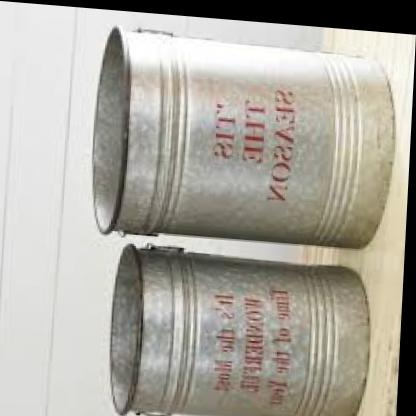trash: (93, 28, 393, 247), (111, 245, 368, 415)
